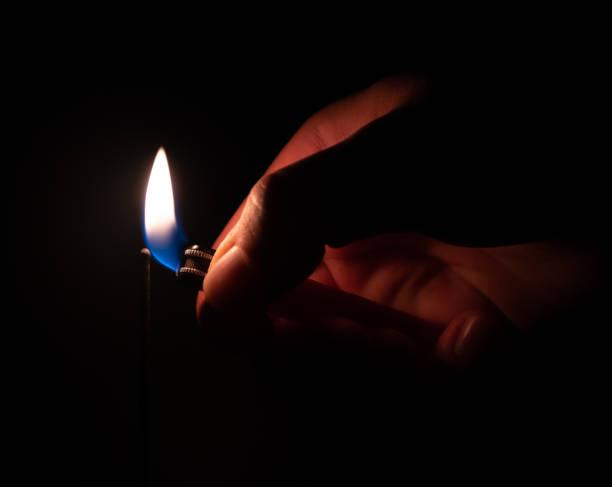Fire: (141, 141, 184, 277)
